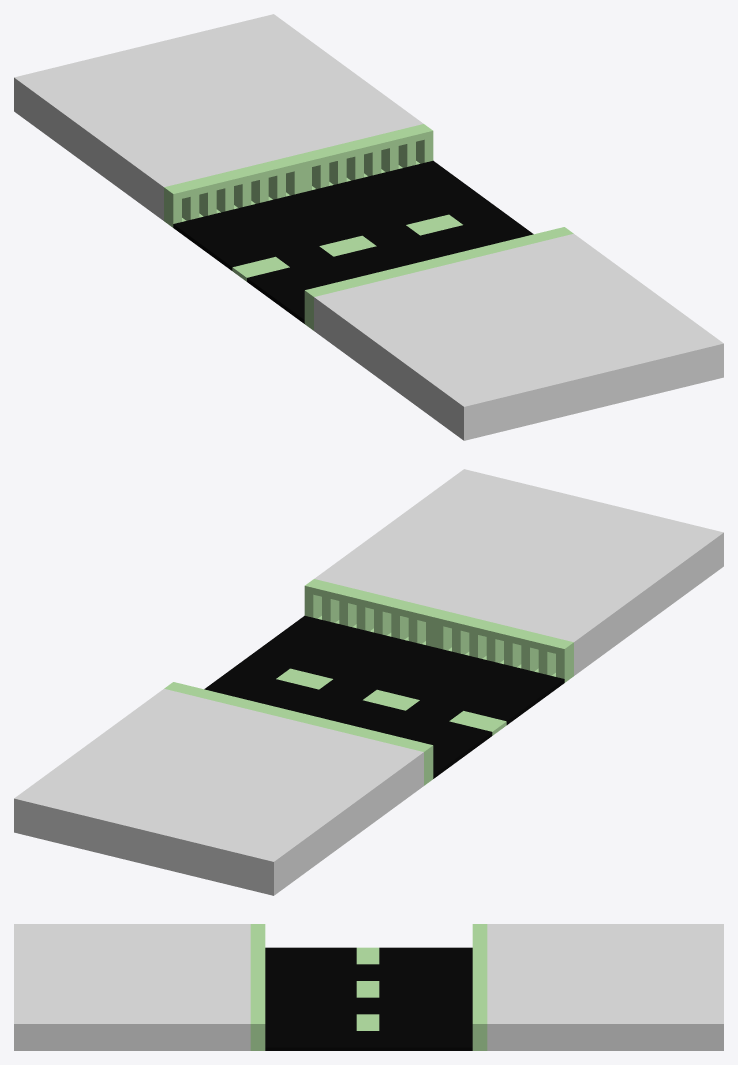
Rendered from Sci-fi_raceTrackStraightLeft_Beta2.fbx.
3 views of the same model, one above another, from view 1: azimuth 30°, elevation 25°; view 2: azimuth 150°, elevation 25°; view 3: azimuth 270°, elevation 25° (orthographic). The views are drawn at different scales.
Parts seen in each view (by area): view 1: RightRoad, LeftRoad, Plane, LeftWall, RightWall; view 2: LeftRoad, RightRoad, Plane, RightWall, LeftWall; view 3: RightRoad, LeftRoad, Plane, LeftWall, RightWall.
Part boxes in pixels (left/top/right/bottom): RightRoad: left=314, top=233, right=723, bottom=440; LeftRoad: left=14, top=14, right=423, bottom=220; Plane: left=173, top=160, right=533, bottom=323; LeftWall: left=164, top=124, right=433, bottom=227; RightWall: left=304, top=227, right=573, bottom=330; LeftRoad: left=14, top=688, right=423, bottom=895; RightRoad: left=314, top=469, right=723, bottom=675; Plane: left=204, top=615, right=564, bottom=778; RightWall: left=304, top=579, right=573, bottom=682; LeftWall: left=164, top=682, right=433, bottom=785; RightRoad: left=14, top=924, right=250, bottom=1050; LeftRoad: left=487, top=924, right=723, bottom=1050; Plane: left=265, top=947, right=472, bottom=1050; LeftWall: left=472, top=924, right=487, bottom=1050; RightWall: left=250, top=924, right=265, bottom=1050.
Size of the model in its own units: 1000 by 125 by 3000.
